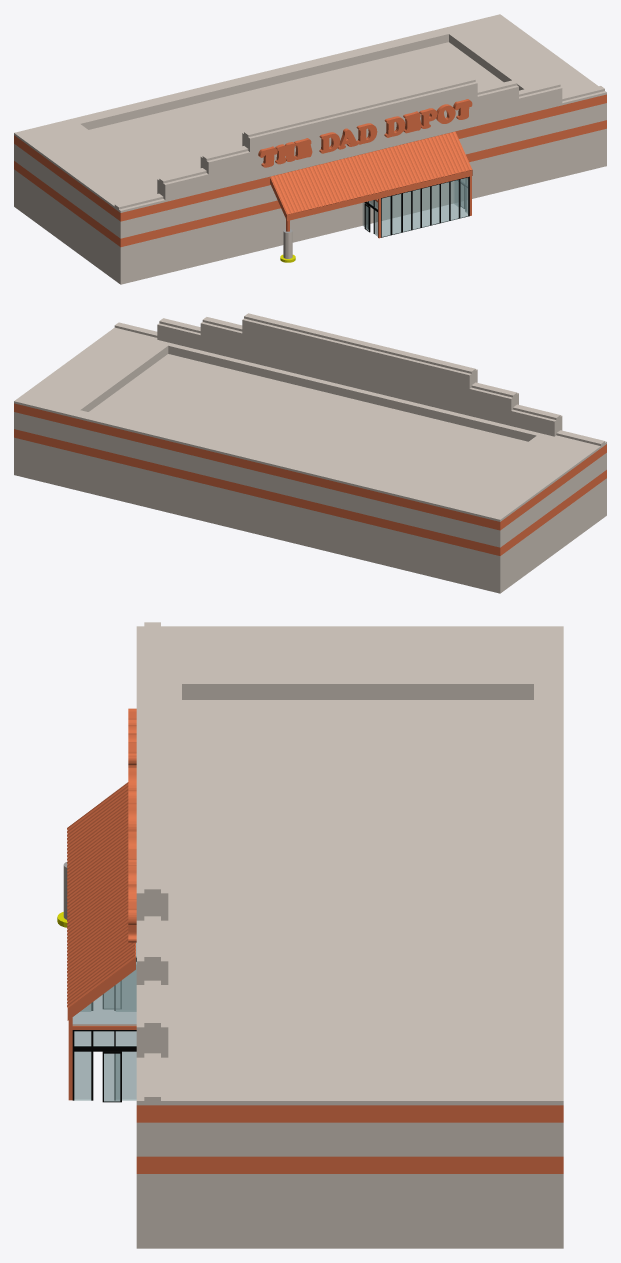
Rendered from DAD_Depot.fbx.
3 renders of one model, top to bottom at view 1: azimuth 30°, elevation 25°; view 2: azimuth 150°, elevation 25°; view 3: azimuth 270°, elevation 25°, orthographic. The views are drawn at different scales.
Parts seen in each view (by area): view 1: polySurface10; view 2: polySurface10; view 3: polySurface10.
Part boxes in pixels (box(x1,y1,x2,y2)): polySurface10: box(14, 14, 606, 284); polySurface10: box(14, 313, 606, 593); polySurface10: box(57, 622, 563, 1248).
Bounding box in the file's own units: 48.58 × 11.13 × 21.9.
